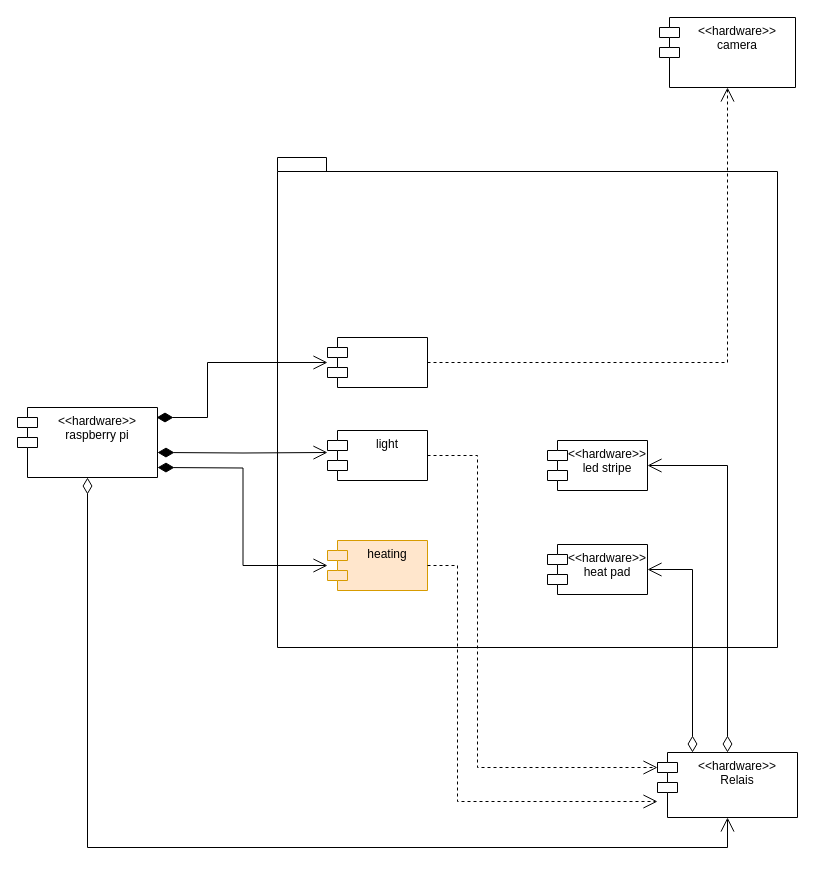
This 815x882 diagram has some shape labels left out. Each missing label, with the box of its shape:
cinema: (326, 336, 428, 388)
e-chicken: (276, 156, 778, 648)
